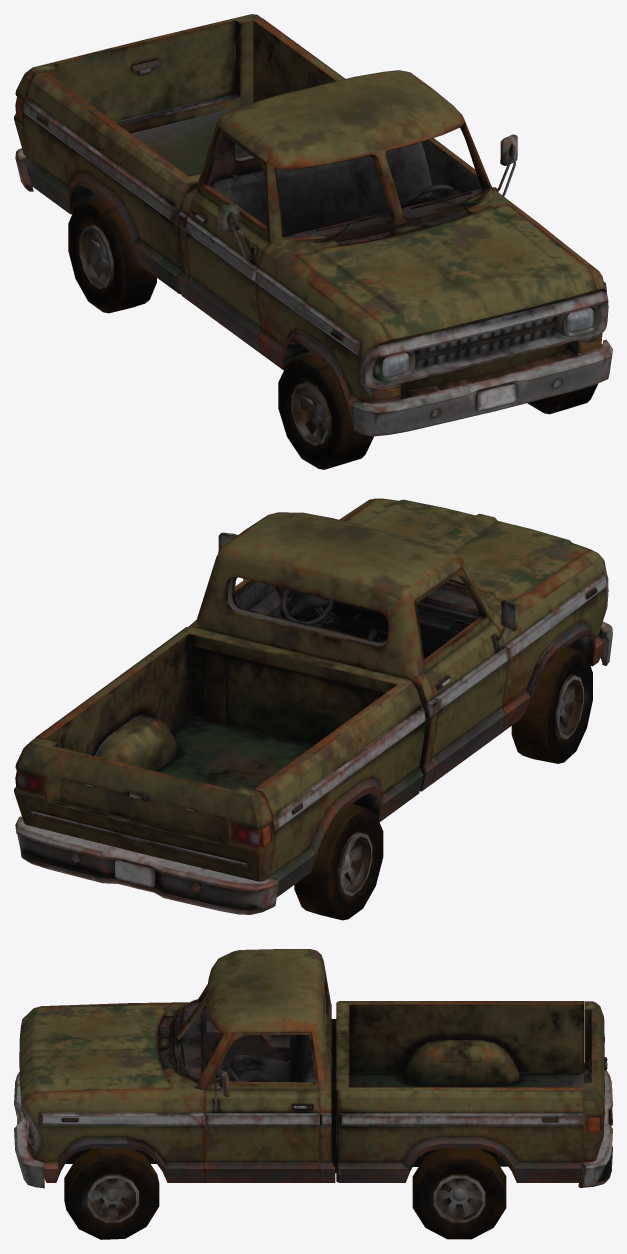
3 views of the same model, one above another, from view 1: azimuth 30°, elevation 25°; view 2: azimuth 150°, elevation 25°; view 3: azimuth 270°, elevation 25° (orthographic). The views are drawn at different scales.
Parts seen in each view (by area): view 1: KUZA_15, KAPOT_3, BAQAJ DOOR_1, QAPI.001_8, ON-BUFER_5, TEKER.003_13, TEKER.004_14, QAPI_7, KUZA.001_4, TEKER.001_11; view 2: KUZA_15, BAQAJ DOOR_1, KAPOT_3, QAPI.001_8, ON-BUFER.001_6, TEKER.004_14, TEKER.003_13, SALON_10, QAPI_7, ARXA FARA_0, ROL_9; view 3: KUZA_15, QAPI_7, KAPOT_3, TEKER.002_12, TEKER.001_11, BAQAJ DOOR_1, QAPI.001_8, ON-BUFER.001_6, ON-BUFER_5.
Boxes of the visible parts, bbox=[...] form: KUZA_15: bbox=[23, 18, 608, 419]; KAPOT_3: bbox=[295, 204, 596, 339]; BAQAJ DOOR_1: bbox=[14, 14, 261, 157]; QAPI.001_8: bbox=[185, 127, 270, 353]; ON-BUFER_5: bbox=[351, 339, 612, 436]; TEKER.003_13: bbox=[278, 353, 373, 469]; TEKER.004_14: bbox=[68, 197, 156, 313]; QAPI_7: bbox=[421, 127, 517, 199]; KUZA.001_4: bbox=[382, 308, 593, 377]; TEKER.001_11: bbox=[527, 384, 597, 414]; KUZA_15: bbox=[36, 498, 608, 897]; BAQAJ DOOR_1: bbox=[14, 737, 274, 881]; KAPOT_3: bbox=[345, 498, 591, 602]; QAPI.001_8: bbox=[414, 567, 517, 784]; ON-BUFER.001_6: bbox=[15, 816, 278, 914]; TEKER.004_14: bbox=[294, 804, 383, 920]; TEKER.003_13: bbox=[511, 647, 592, 763]; SALON_10: bbox=[276, 586, 479, 651]; QAPI_7: bbox=[218, 532, 282, 617]; ARXA FARA_0: bbox=[15, 770, 271, 847]; ROL_9: bbox=[281, 589, 333, 625]; KUZA_15: bbox=[19, 949, 586, 1182]; QAPI_7: bbox=[204, 1032, 319, 1182]; KAPOT_3: bbox=[19, 1003, 172, 1100]; TEKER.002_12: bbox=[412, 1148, 506, 1239]; TEKER.001_11: bbox=[64, 1148, 159, 1239]; BAQAJ DOOR_1: bbox=[584, 1001, 607, 1161]; QAPI.001_8: bbox=[205, 1002, 290, 1081]; ON-BUFER.001_6: bbox=[578, 1063, 612, 1187]; ON-BUFER_5: bbox=[14, 1072, 44, 1188].
Size of the model in its own units: 14.59 by 12 by 31.09.
1 material, 1 textured.
